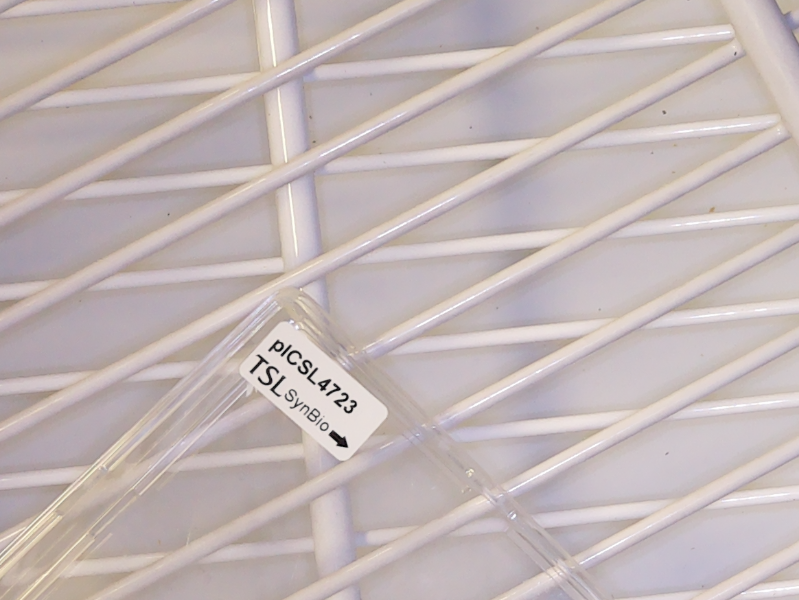plate: (1, 279, 616, 600)
